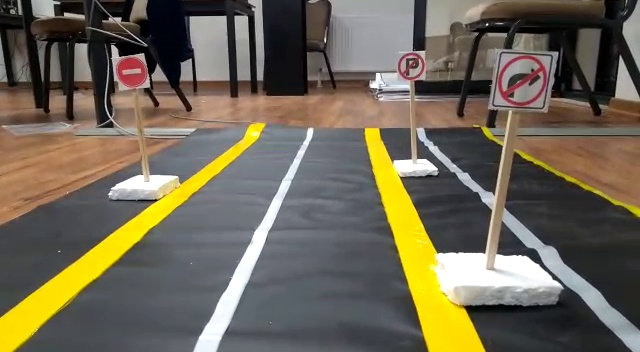girisi_olmayan_yol: (115, 56, 148, 88)
park_yapilmaz: (396, 52, 424, 81)
saga_donulmez: (495, 49, 547, 111)
